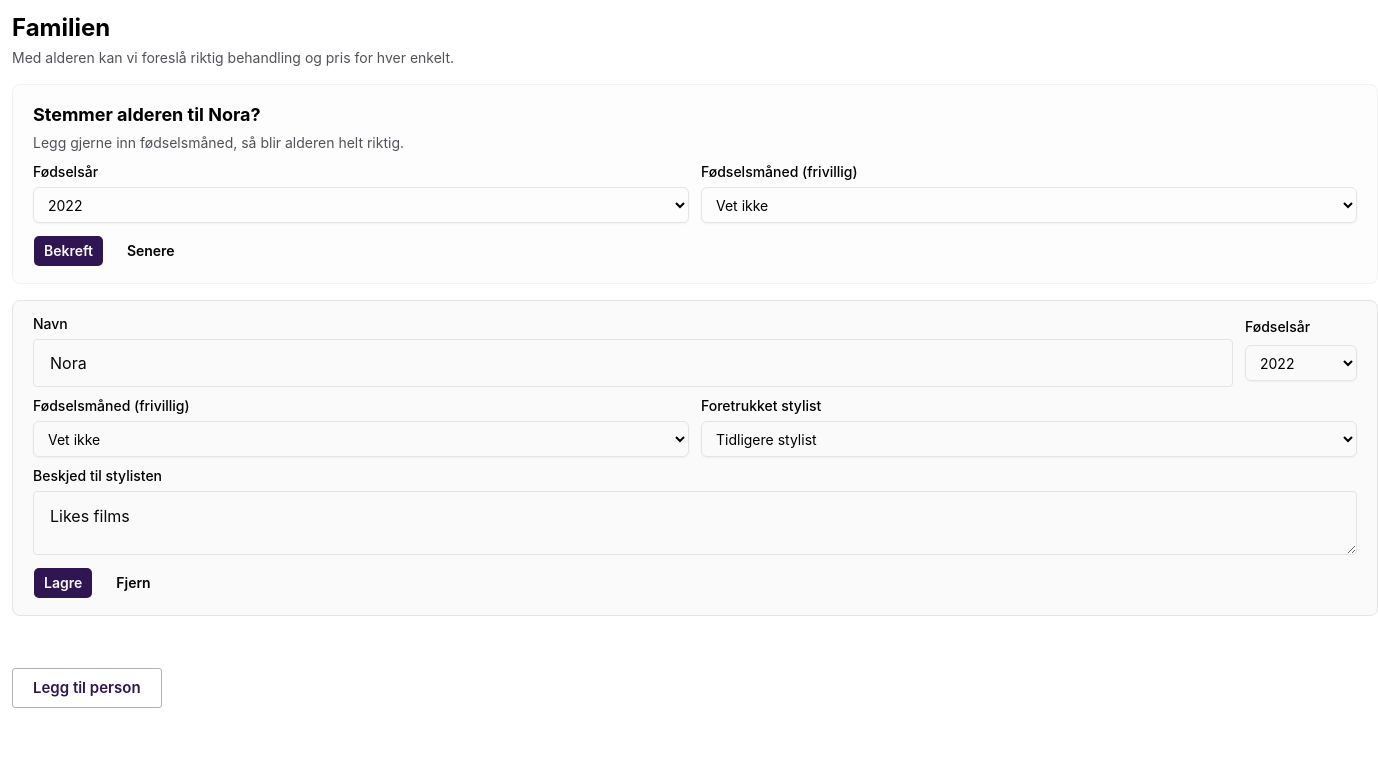
Scenario: Age prompt in the family editor › saves the year and month for that child only, leaving notes and stylist alone
Select "2021" in the dropdown labelled "Fødselsår" below "Stemmer alderen til Nora?" at (361, 205), box [33, 187, 689, 223]
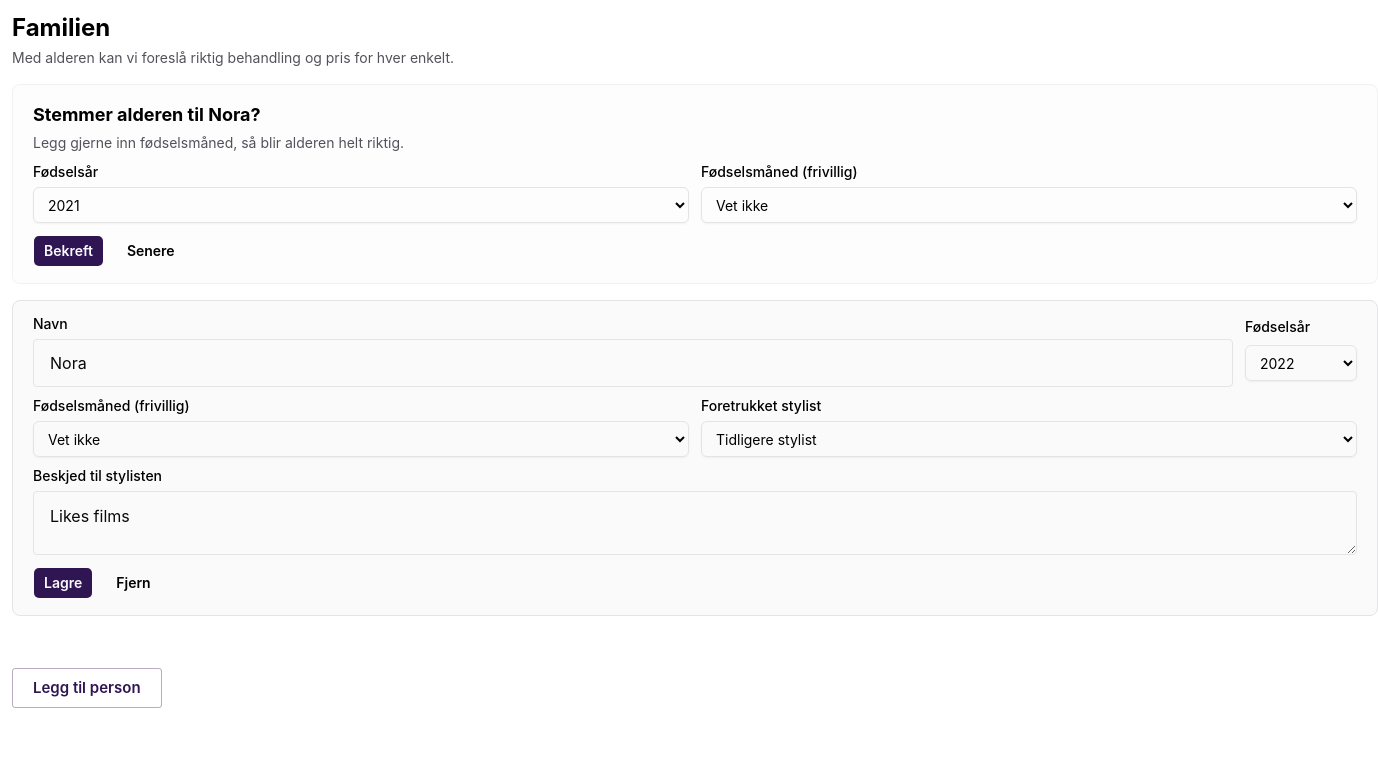
Select "september" in the 1st dropdown labelled "Fødselsmåned (frivillig)" at (1029, 205), box [701, 187, 1357, 223]
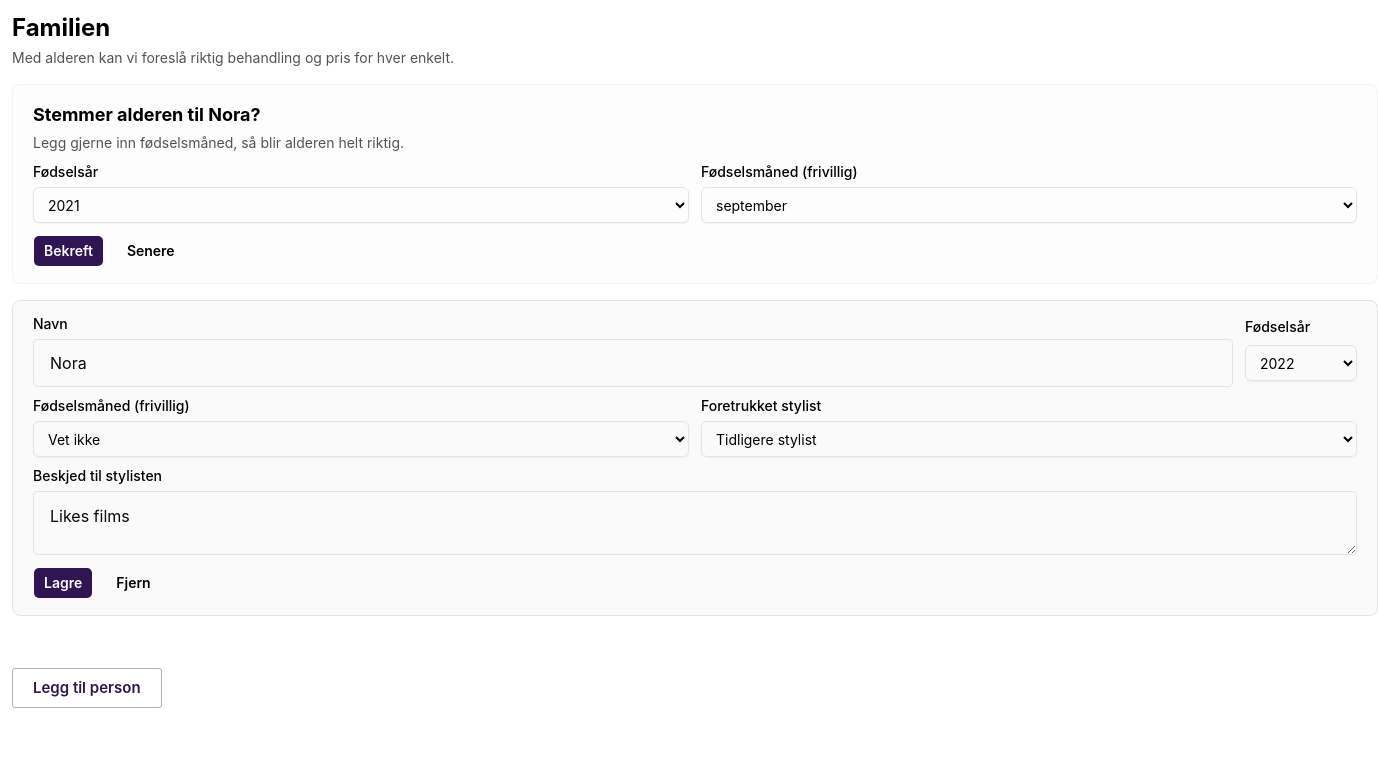
Click the button "Bekreft".
click(68, 251)  # box [33, 235, 104, 267]
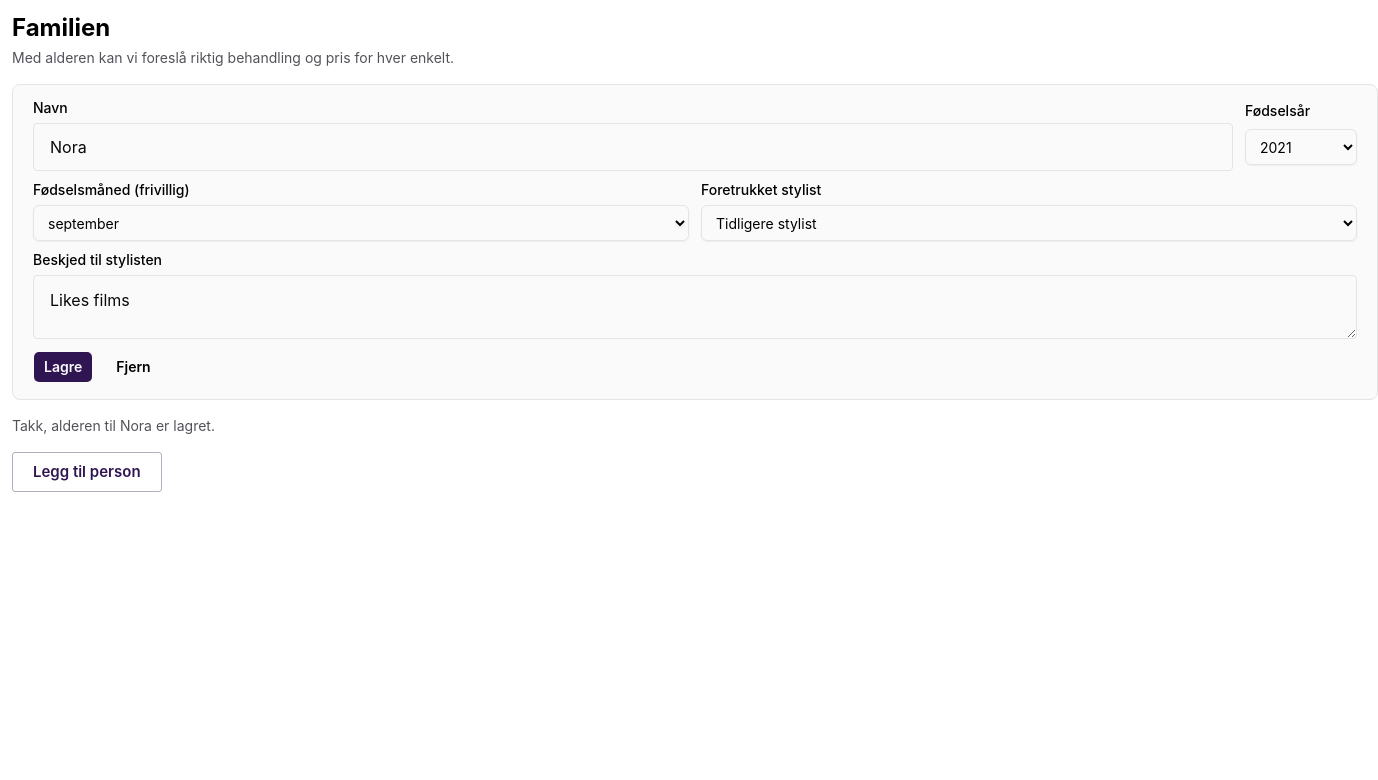
Expected: the text "Takk, alderen til Nora er lagret." is shown, [12, 417, 215, 434]
Expected: the heading "Stemmer alderen til" is gone
Expected: the dropdown labelled "Fødselsmåned (frivillig)" shows "september", [33, 205, 689, 241]
